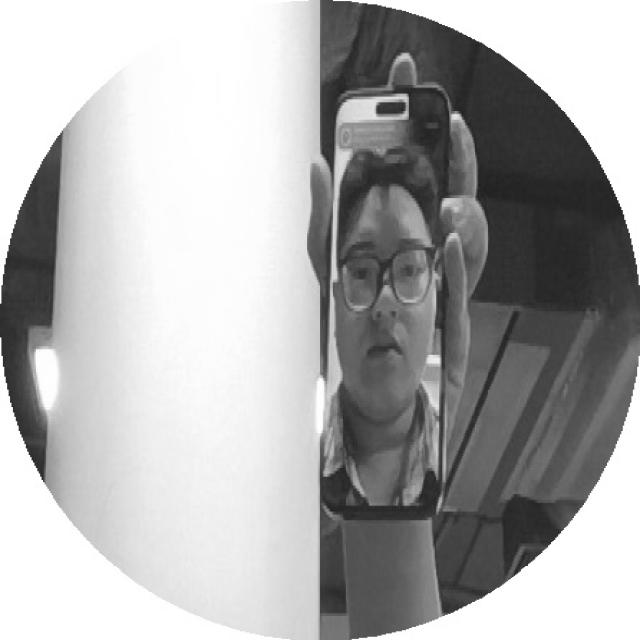fake: (273, 61, 494, 562), (306, 75, 460, 534)
